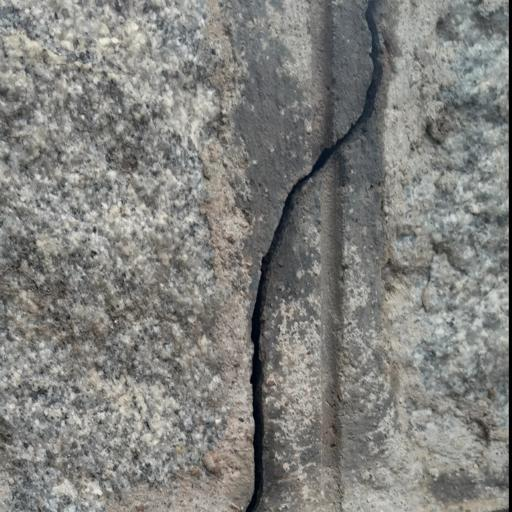major_crack: (238, 0, 394, 512)
